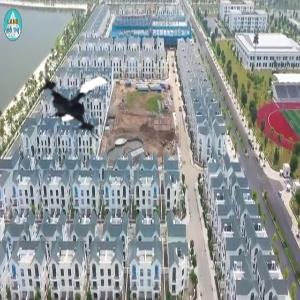drone: (32, 59, 121, 148)
